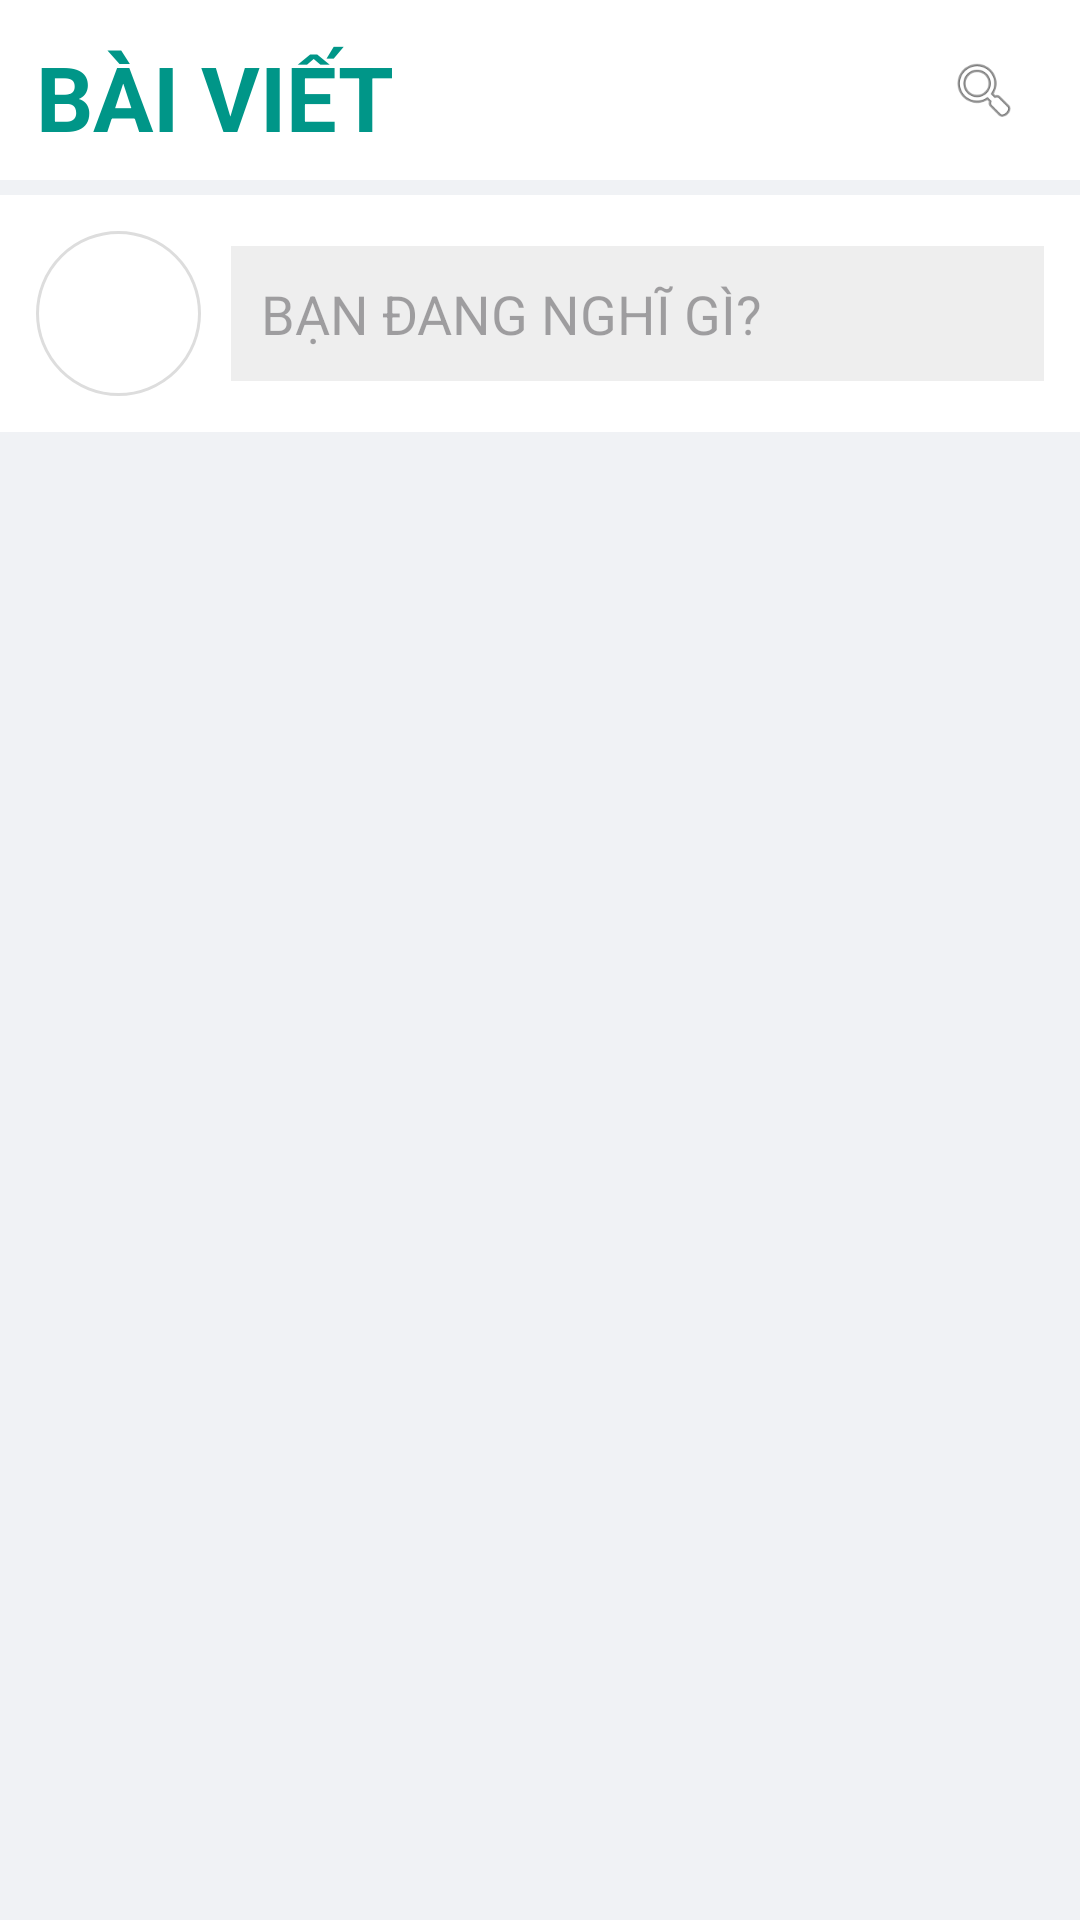

Icons on this 1080 x 1920 Android screen, each with its box as (x1, y1, x2, y2):
search: (957, 64, 1011, 117)
